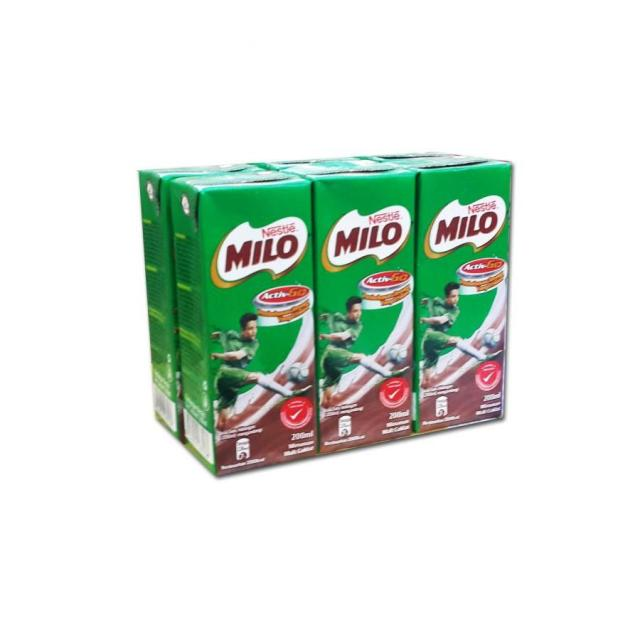drink carton: (134, 155, 509, 476)
